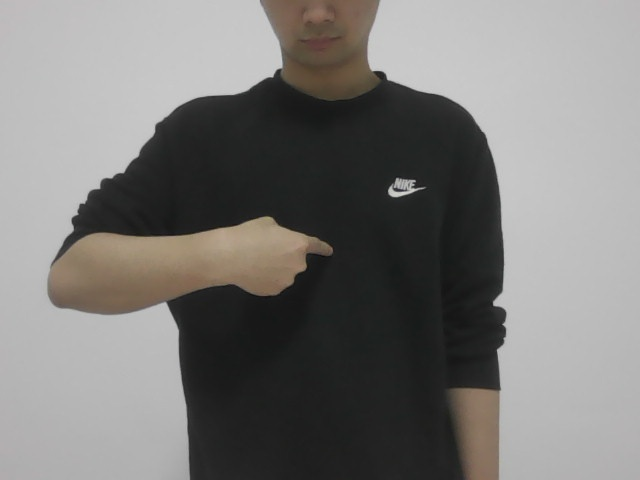I/me: (200, 202, 344, 298)
